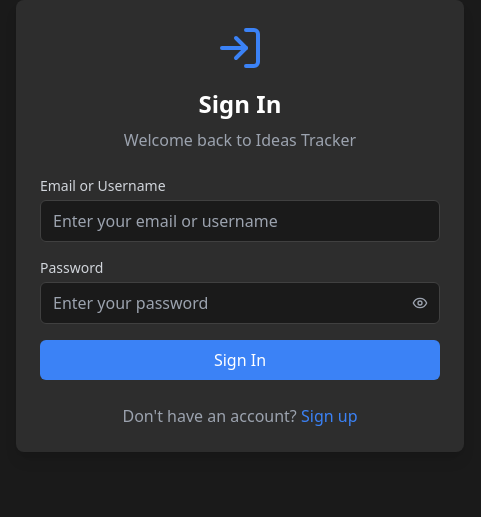
Test: LoginForm › shows validation error for short email/username
The image size is (481, 517).
Type "ab" into the field labelled "Email or Username". click: (240, 221)
box: [40,200,440,242]
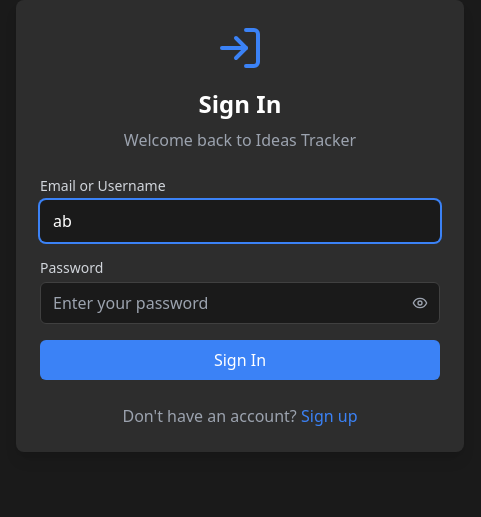
Click the button "Sign In". click: (240, 360)
box: [40,340,440,380]
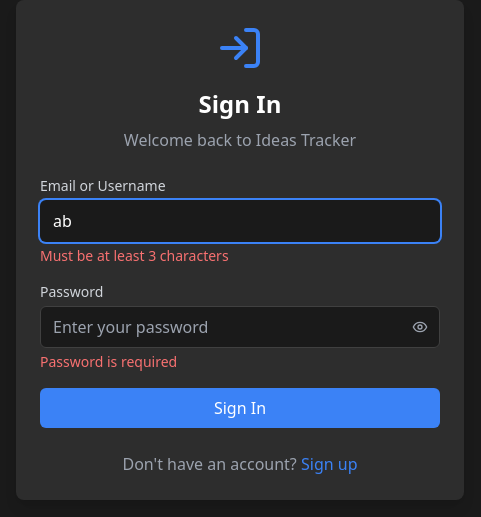
Check: the text "Must be at least 3 characters" is shown, box [40,246,229,265]
